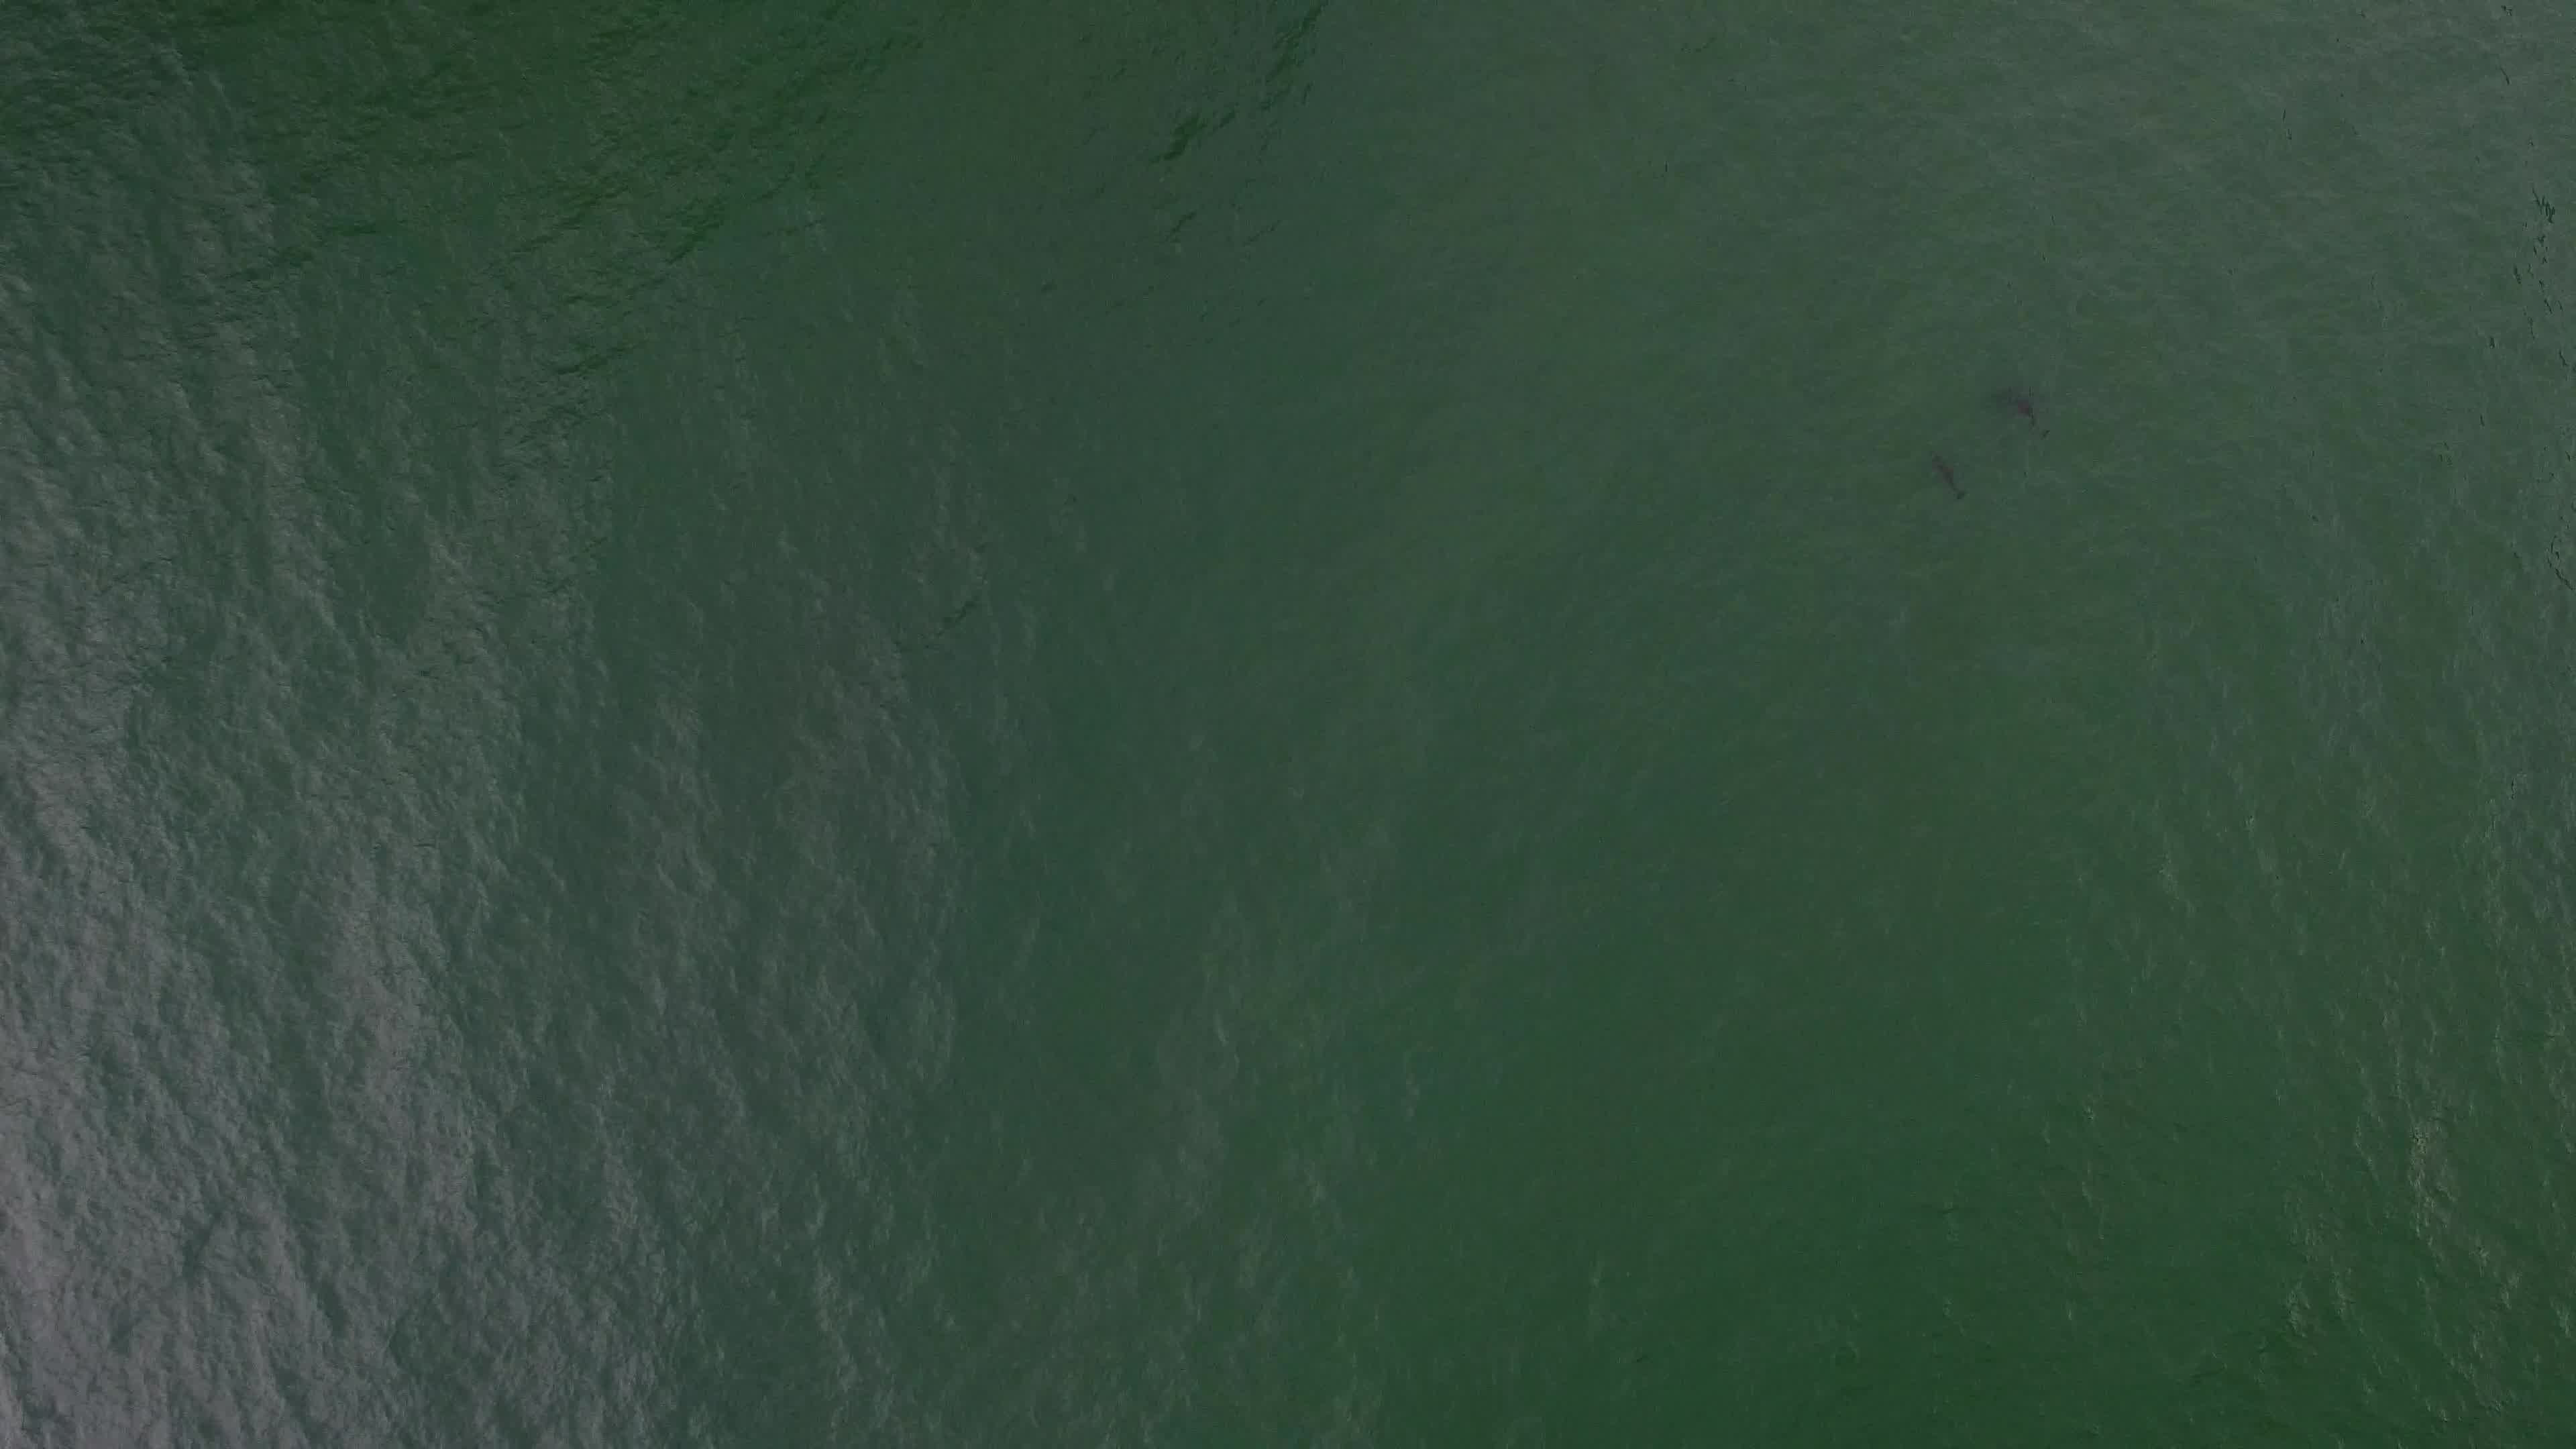dolphin: (1973, 372, 2059, 448), (1911, 439, 1974, 515)
